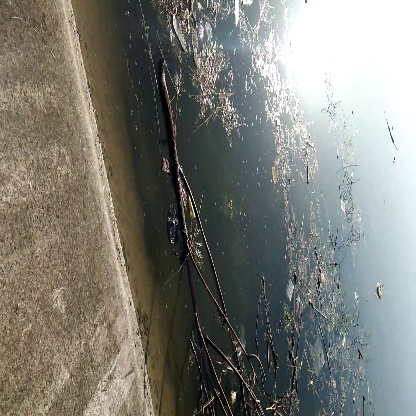branch: (151, 61, 217, 322)
